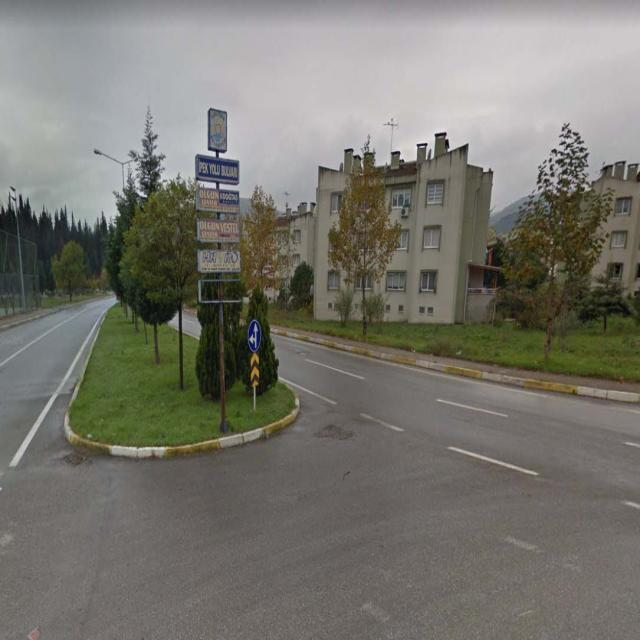ilerisol: (248, 320, 260, 354)
